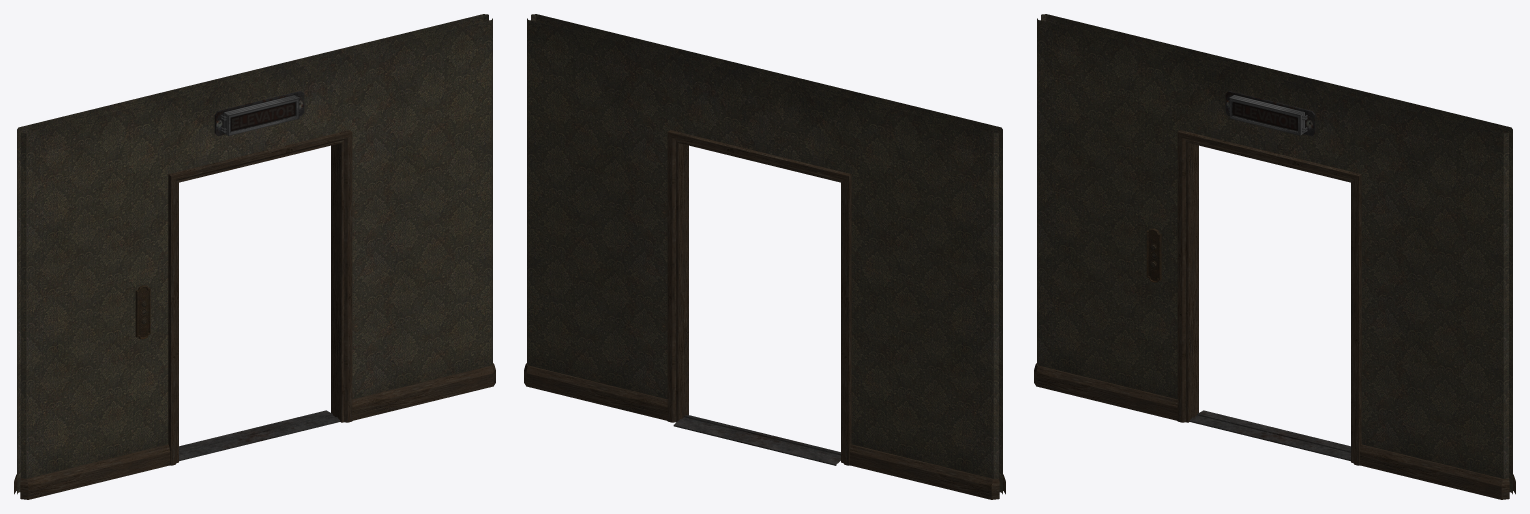
Rendered from elevator_doorway_2.obj.
3 views of the same model, side by side, from view 1: azimuth 30°, elevation 25°; view 2: azimuth 150°, elevation 25°; view 3: azimuth 330°, elevation 25° (orthographic).
Parts seen in each view (by area): view 1: elevator_doorway_2; view 2: elevator_doorway_2; view 3: elevator_doorway_2.
Part boxes in pixels (<box>): elevator_doorway_2: <box>14,14,495,499</box>; elevator_doorway_2: <box>524,14,1005,499</box>; elevator_doorway_2: <box>1034,14,1515,499</box>.
Size of the model in its own units: 4.09 by 3 by 0.29.
